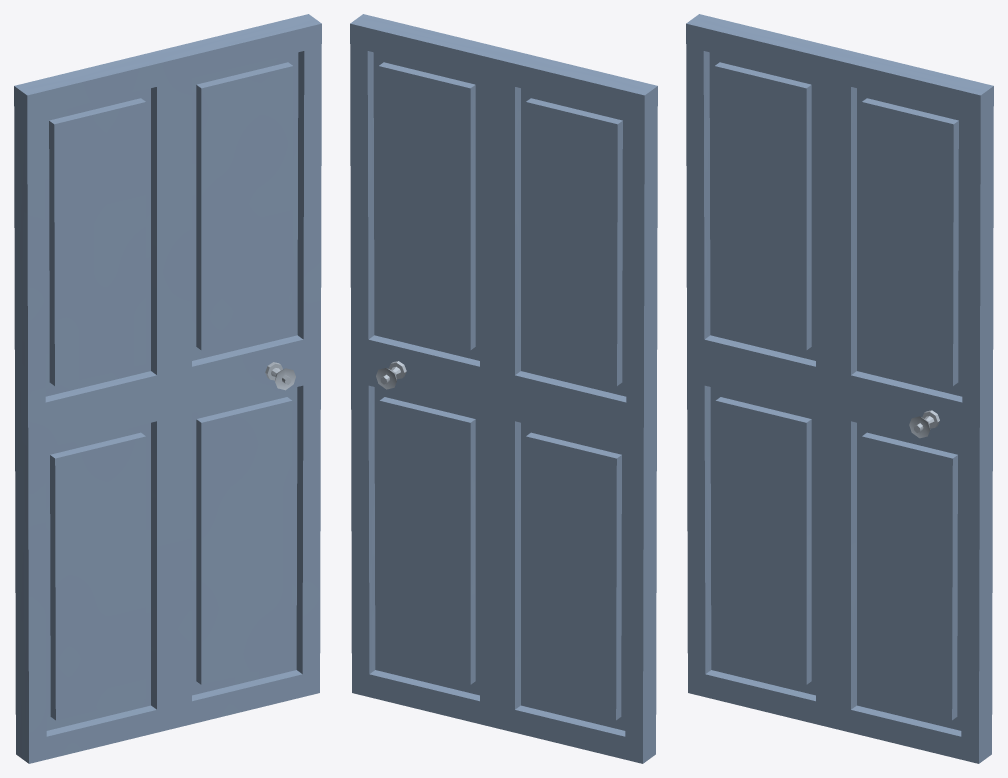
The model's file is Door_01.fbx.
3 renders of one model, left to right at view 1: azimuth 30°, elevation 25°; view 2: azimuth 150°, elevation 25°; view 3: azimuth 330°, elevation 25°, orthographic.
Visible parts, largest first — view 1: Door_01; view 2: Door_01; view 3: Door_01.
Boxes of the visible parts, left/top/right/bottom form: Door_01: left=14, top=14, right=321, bottom=763; Door_01: left=350, top=14, right=657, bottom=763; Door_01: left=686, top=14, right=993, bottom=763.
Size of the model in its own units: 0.9005 by 1.95 by 0.2289.
